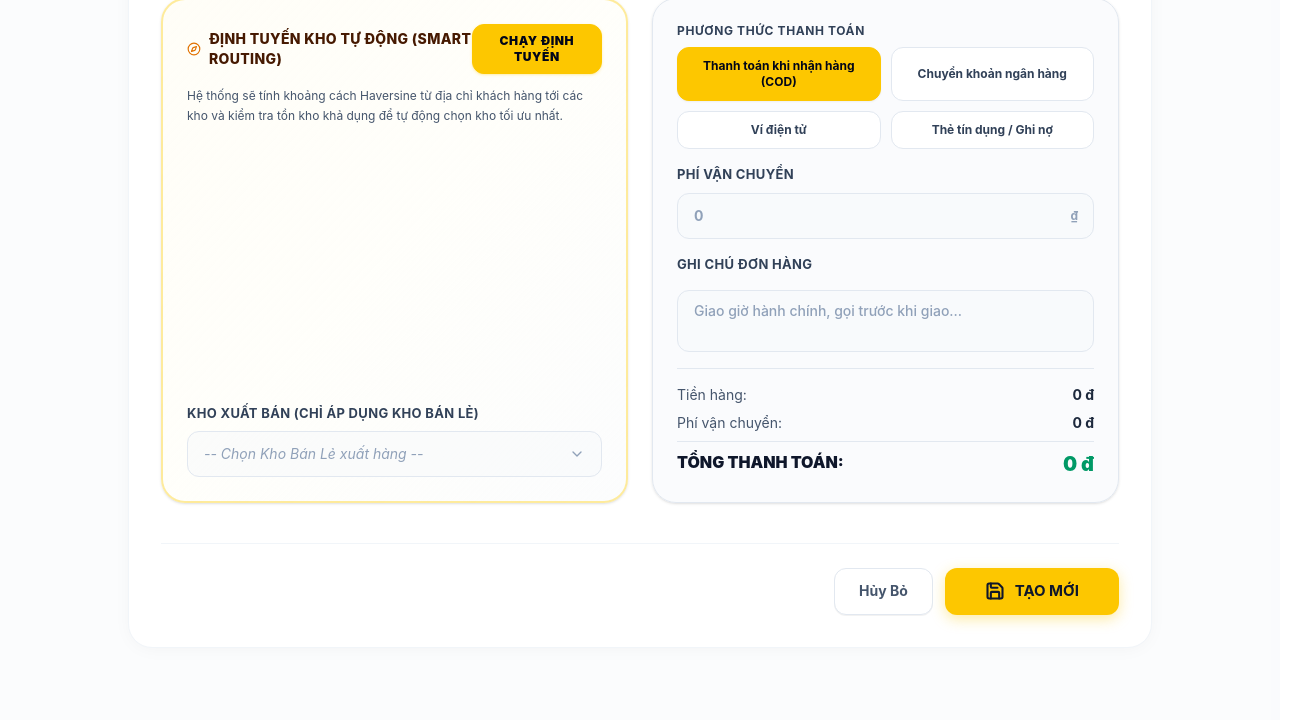
it: Module 13 - OrderForm Component › TC04 - Bắt lỗi validation khi bấm Lưu đơn hàng mà chưa chọn Khách hàng hoặc Biến thể
(page scrolled)
Click the button "TẠO MỚI": (1032, 591) x1=945 y1=568 x2=1119 y2=614
(page scrolled)
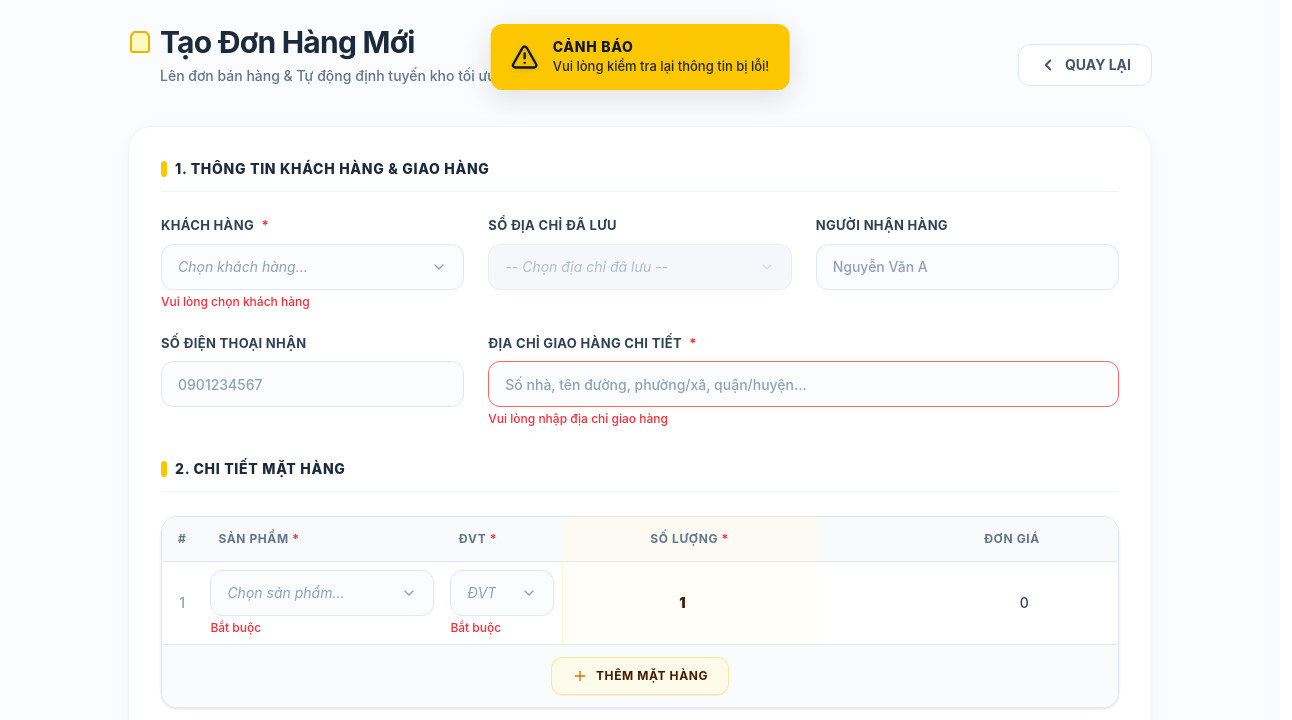
expect the text "Vui lòng chọn khách hàng" is shown: met, box x1=161 y1=294 x2=310 y2=308
